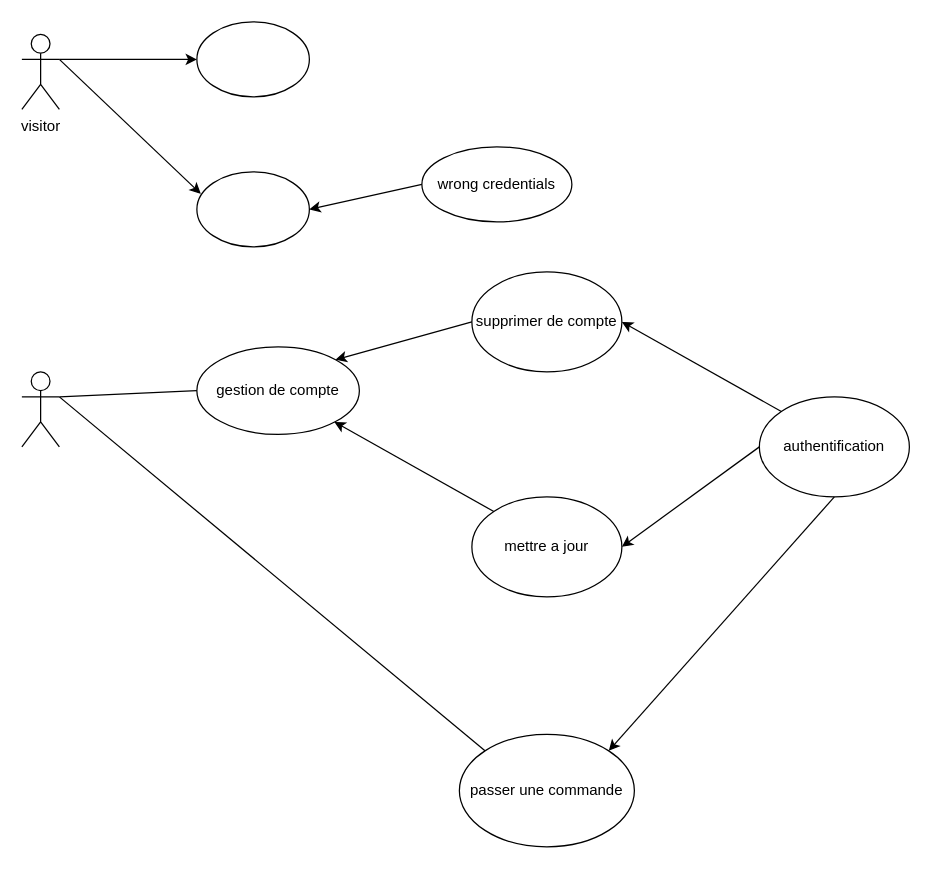
The diagram is 931 pixels wide and 869 high, and some of its shapes have lost their labels. The shapes that lost their labels are listed below. From the top down, each one's box as (x1, y1, x2, y2) in pixels, then its label:
(196, 21, 309, 97): consulter le site
(196, 171, 309, 247): login
(21, 371, 59, 447): user
